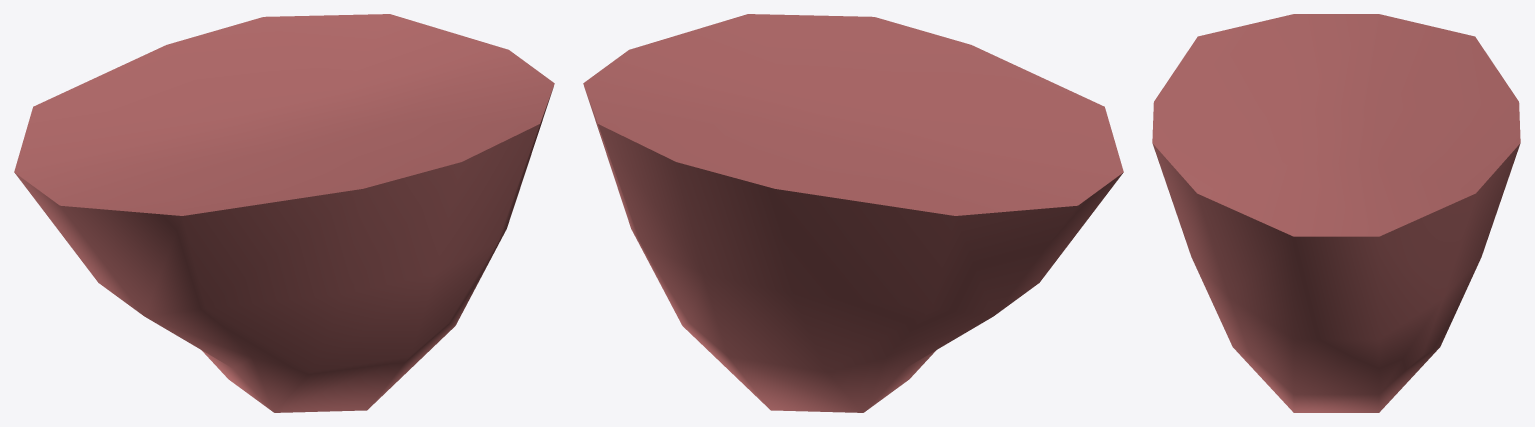
File: Fish_Raz_3.fbx
3 renders of one model, left to right at view 1: azimuth 30°, elevation 25°; view 2: azimuth 150°, elevation 25°; view 3: azimuth 270°, elevation 25°, orthographic. The views are drawn at different scales.
Visible parts, largest first — view 1: polySurface1; view 2: polySurface1; view 3: polySurface1.
Part boxes in pixels (left/top/right/bottom): polySurface1: left=14, top=14, right=554, bottom=412; polySurface1: left=583, top=14, right=1123, bottom=412; polySurface1: left=1152, top=14, right=1520, bottom=412.
Bounding box in the file's own units: 48.39 × 28.01 × 33.58.
